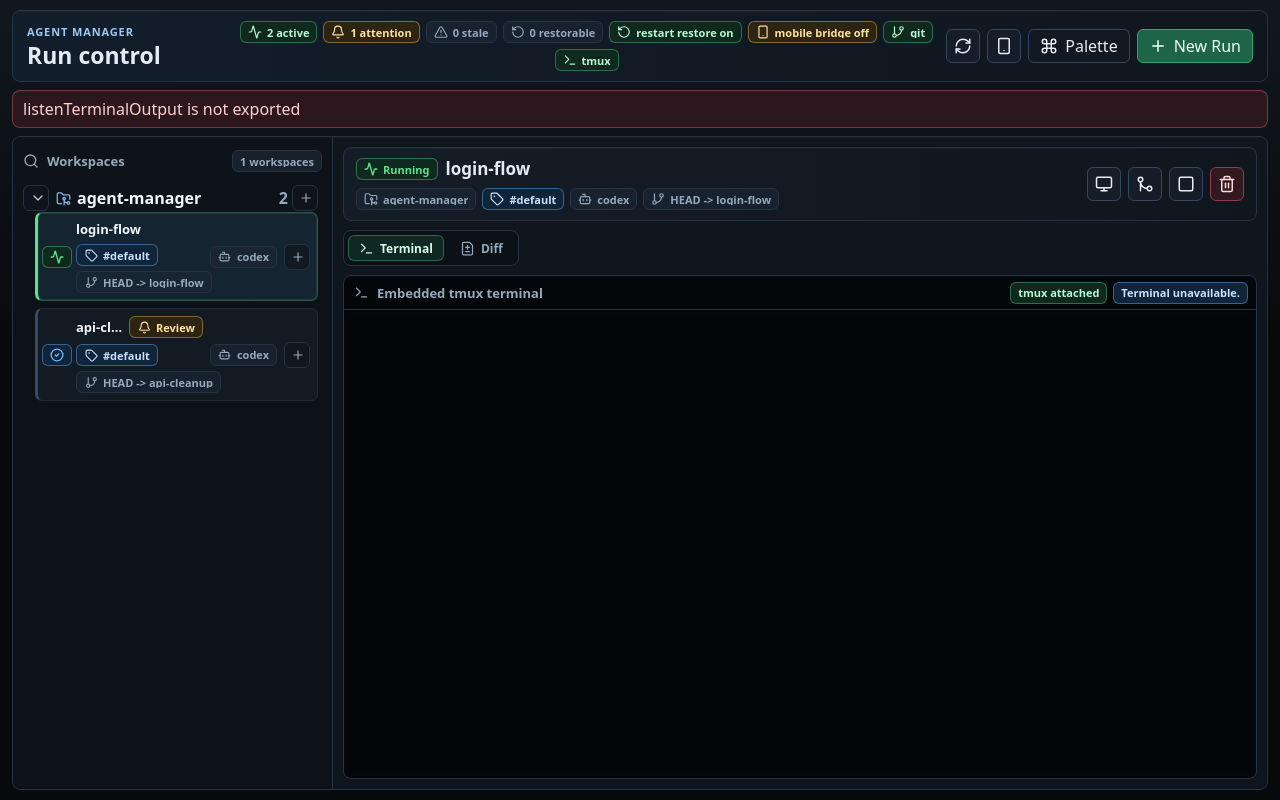
Test: App › loads and renders the selected run diff when the Diff tab opens
Expected: the heading "login-flow" is shown, [446,158,530,180]
Click the tab "Diff" at coordinates (481, 248), box [449,235,514,261]
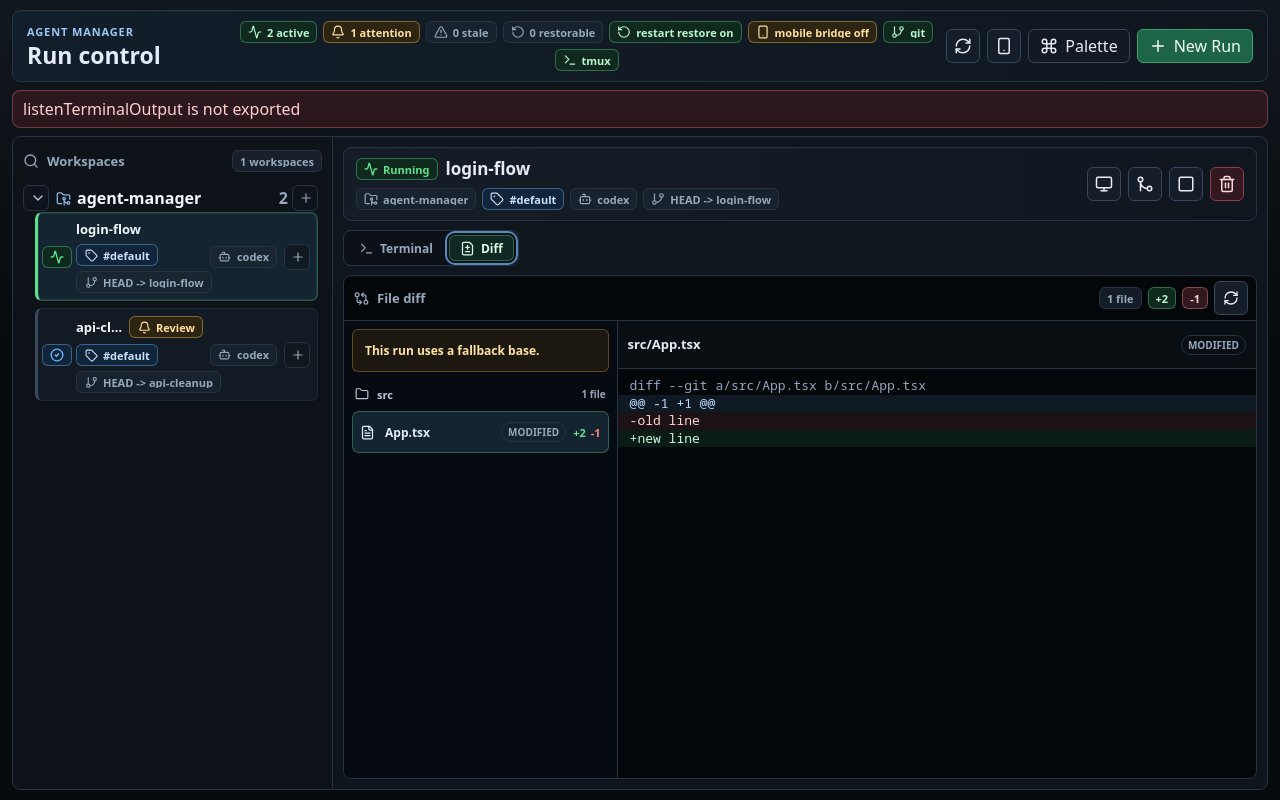
Expected: the text "1 file" in the row of "File diff" is shown, [1107,290,1134,306]
Expected: the text "+2" in the row of "File diff" is shown, [1156,292,1168,304]
Expected: the text "-1" in the row of "File diff" is shown, [1190,292,1200,304]
